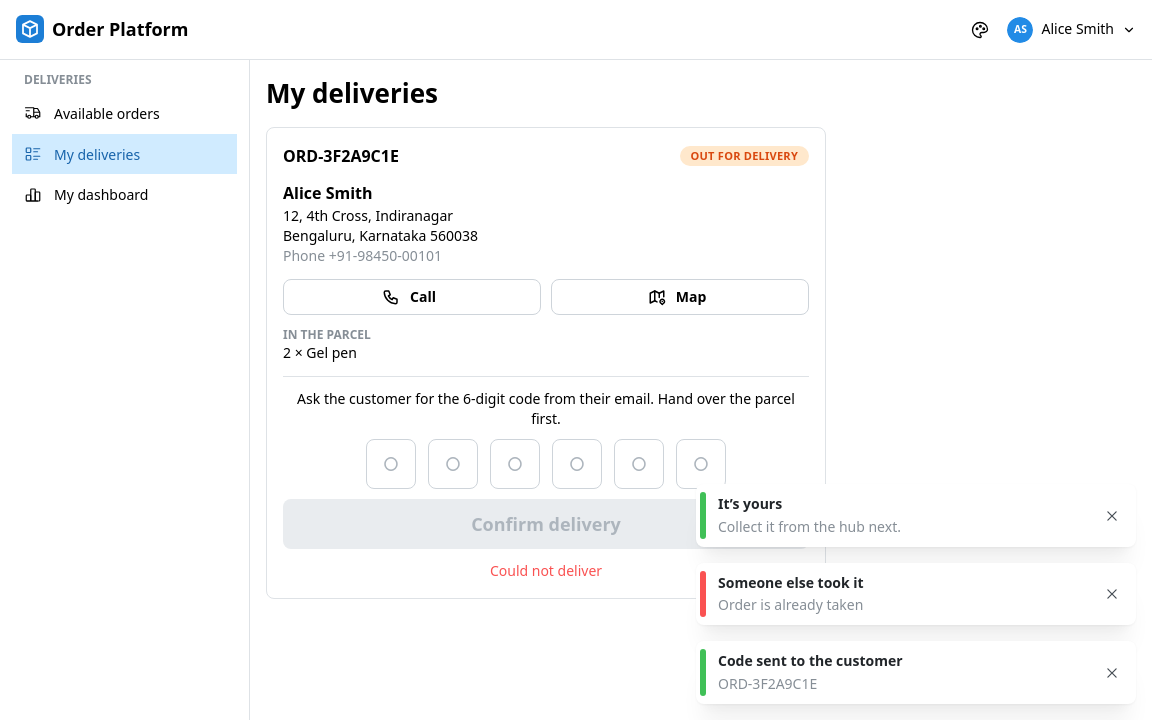
my deliveries › delivers with the code, and shows the tries left after a wrong one
The width and height of the screenshot is (1152, 720).
Check: the button "Confirm delivery" is disabled, box [283,499,809,549]
Click the 1st field with placeholder "○" at [391, 464], box [366,439,416,489]
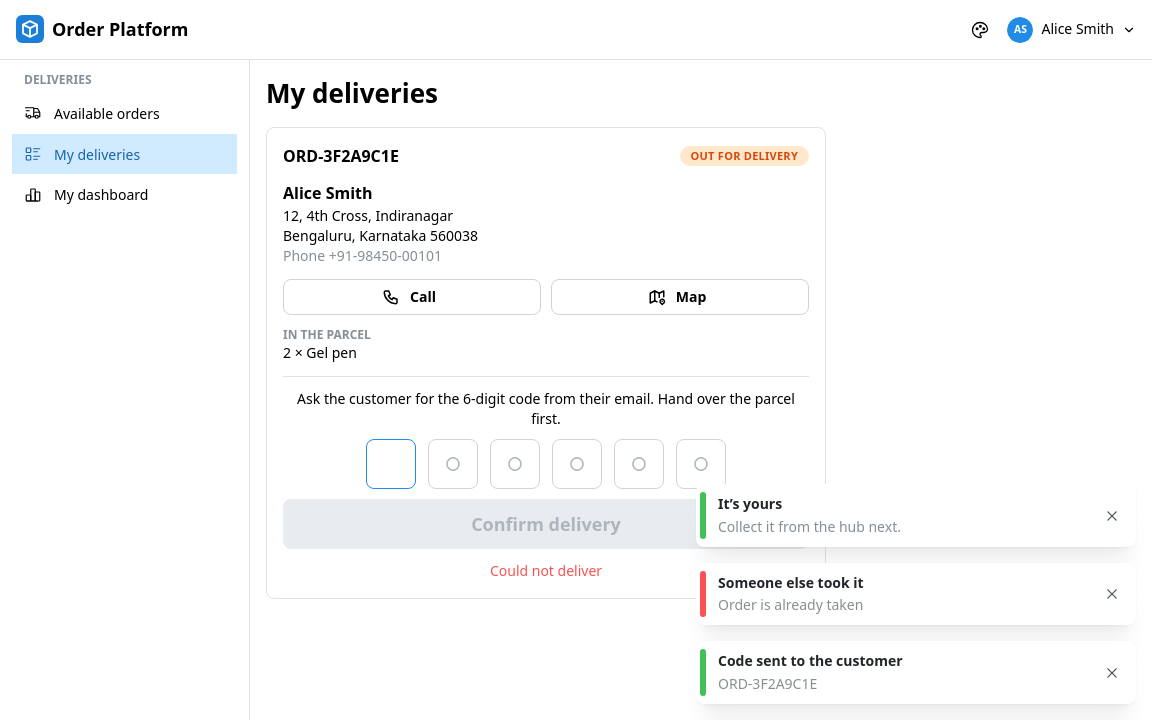
Type keys "000000"
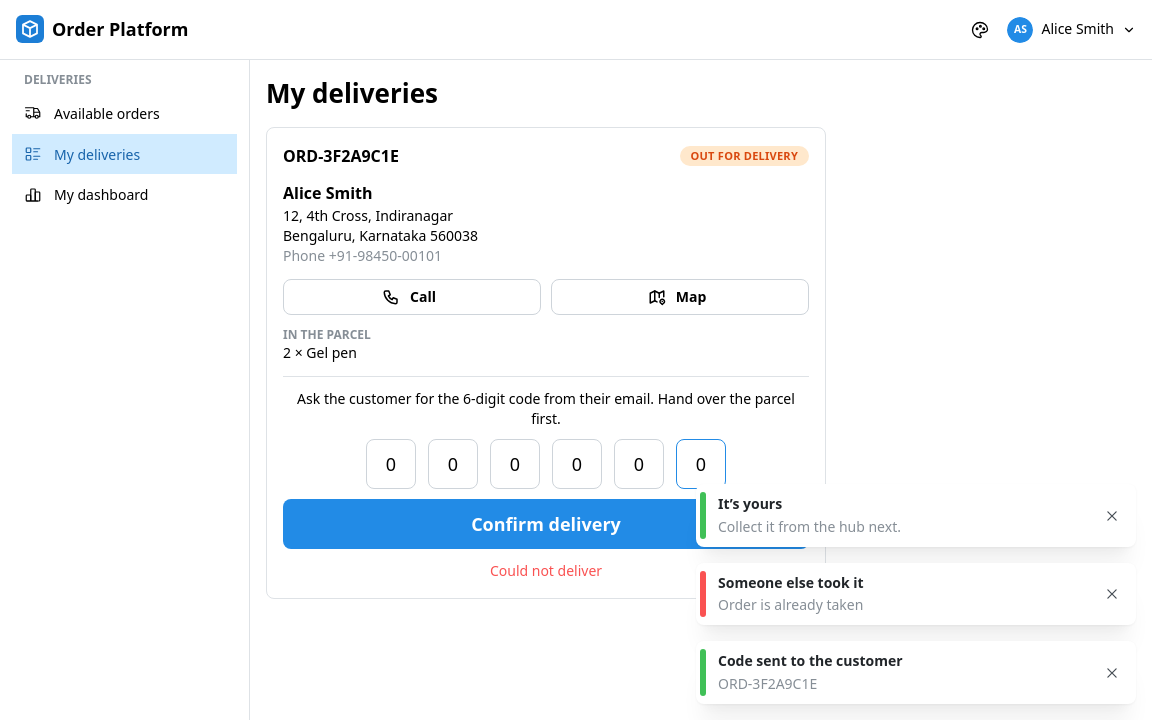
Click the button "Confirm delivery" at [546, 524], box [283,499,809,549]
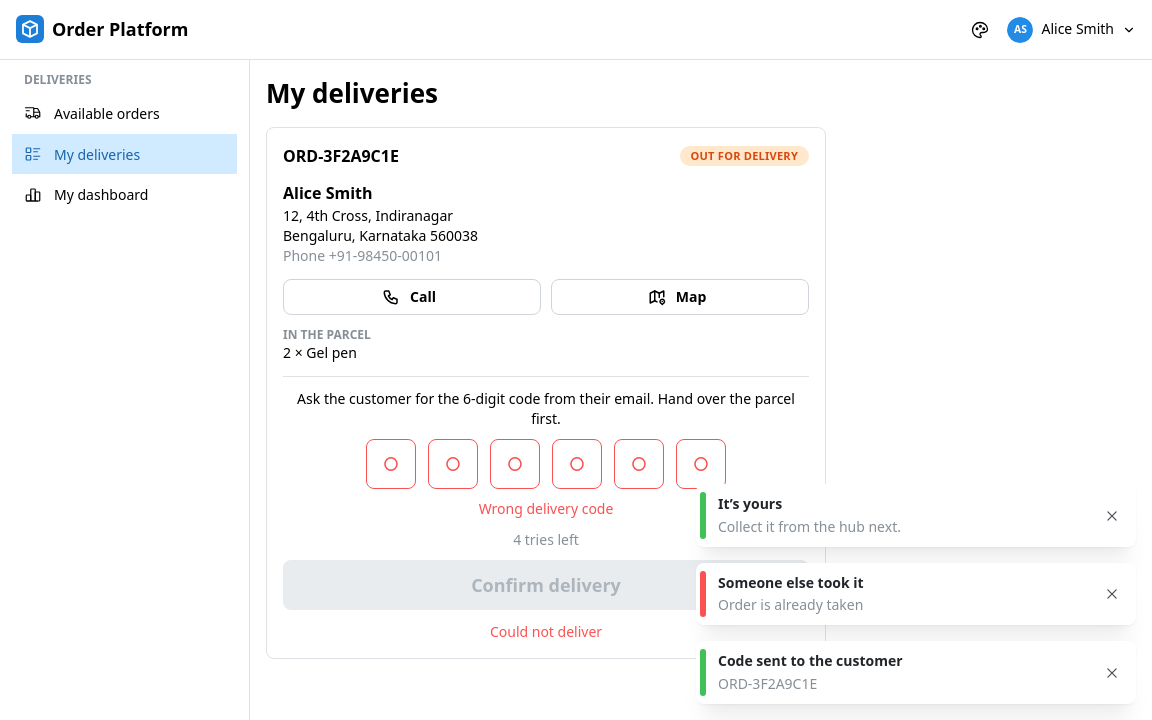
Check: the text "Wrong delivery code" is shown, box [479,499,613,520]
Check: the text "4 tries left" is shown, box [513,530,579,550]
Click the 1st field with placeholder "○" at [391, 464], box [366,439,416,489]
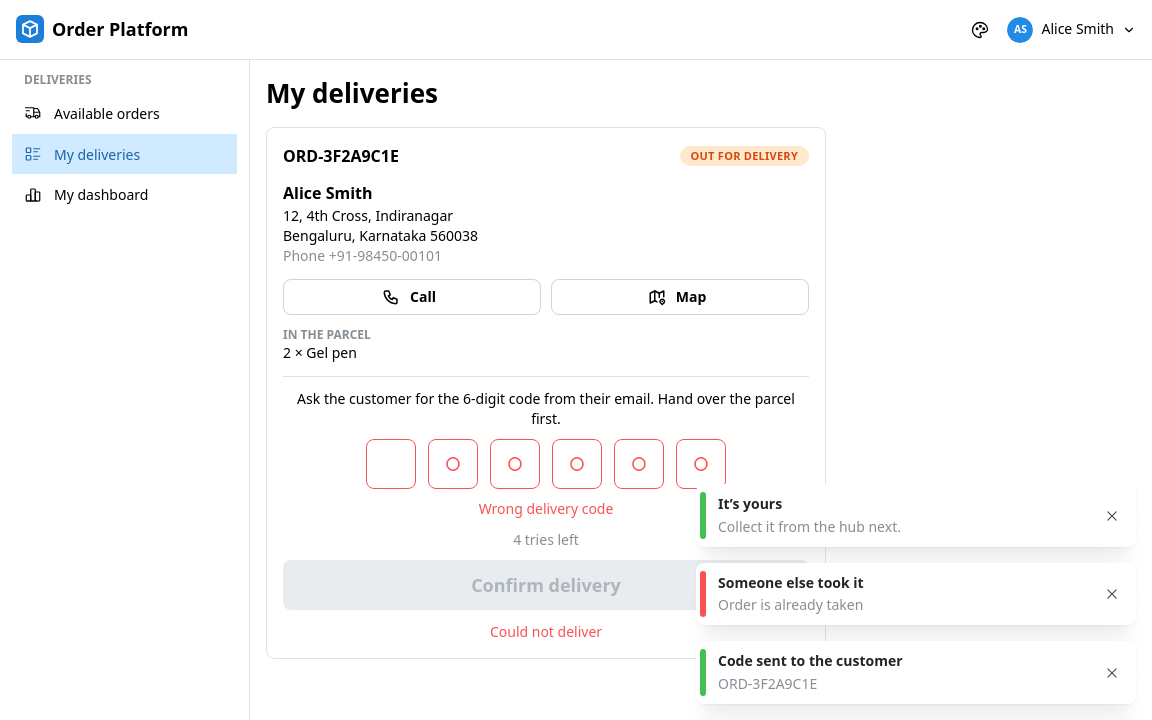
Type keys "123456"
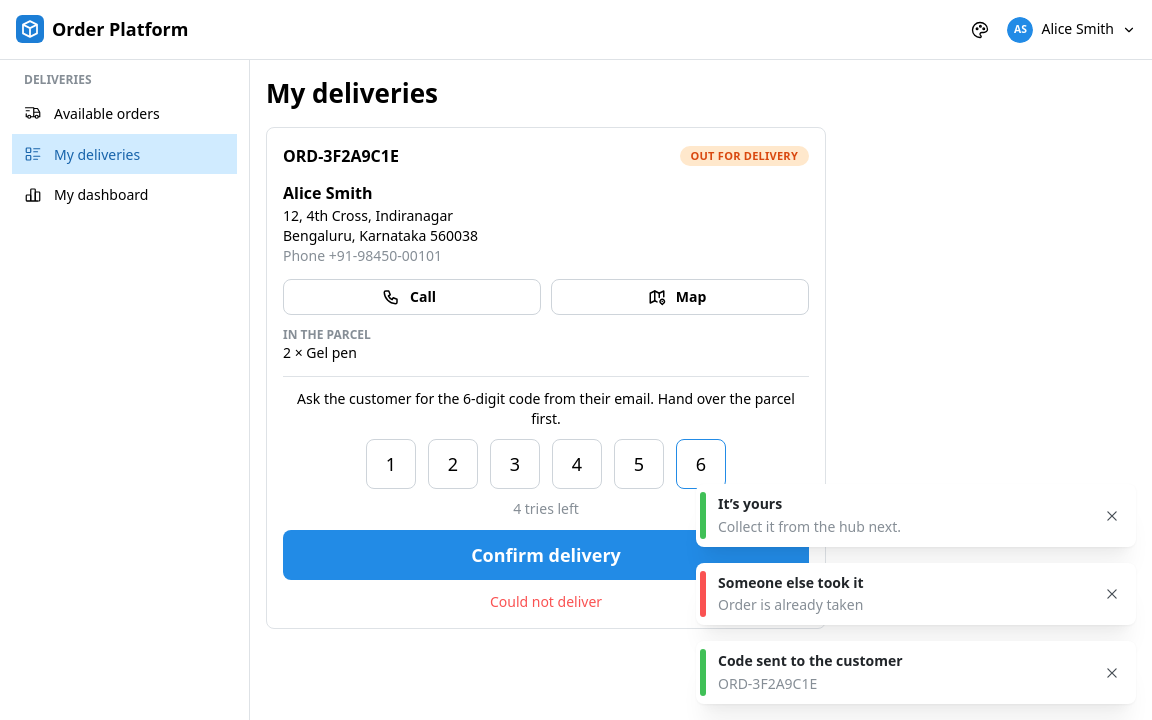
Click the button "Confirm delivery" at [546, 555], box [283,530,809,580]
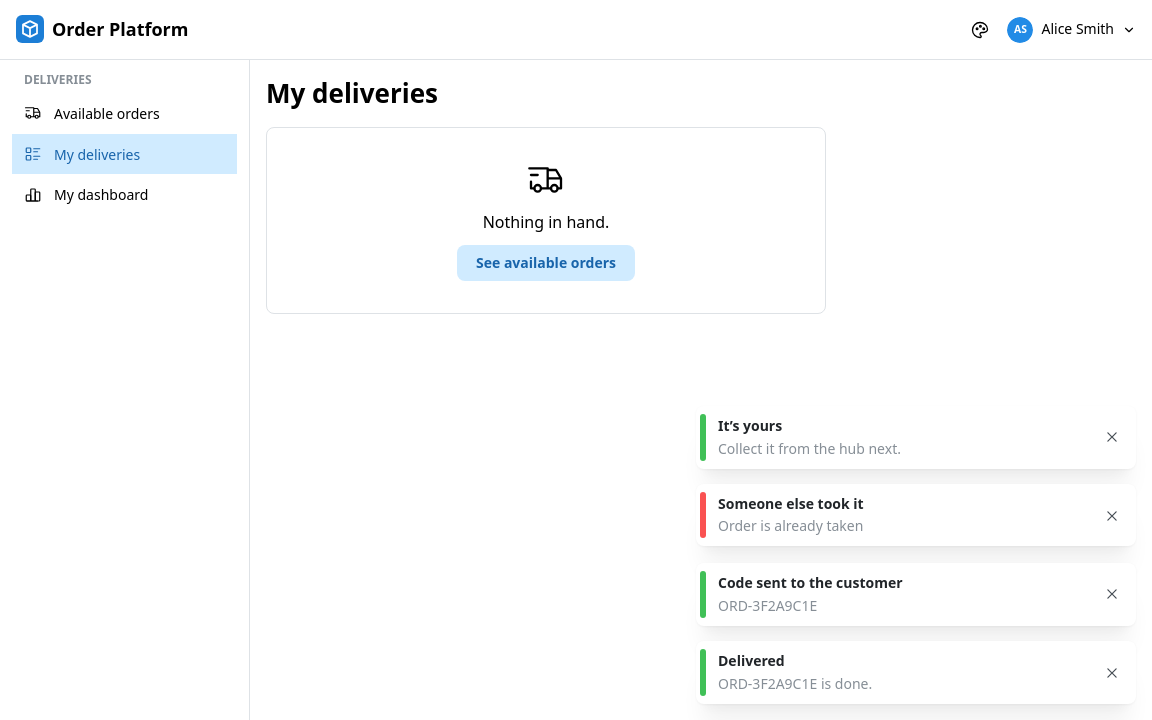
Check: the text "Nothing in hand." is shown, box [483,210,609,235]
